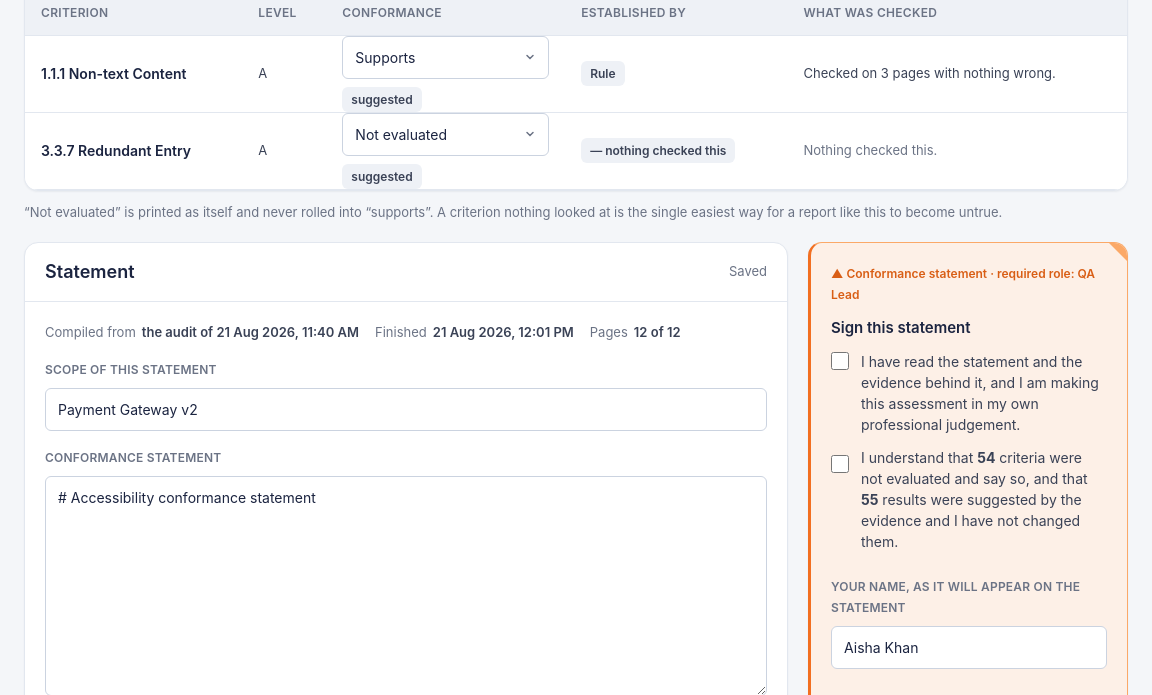
A save that fails speaks the product's language, not the browser's › a dropped connection says the app could not be reached, never “Failed to fetch”
(page scrolled)
Click the 1st checkbox: [840, 361] box [831, 352, 849, 370]
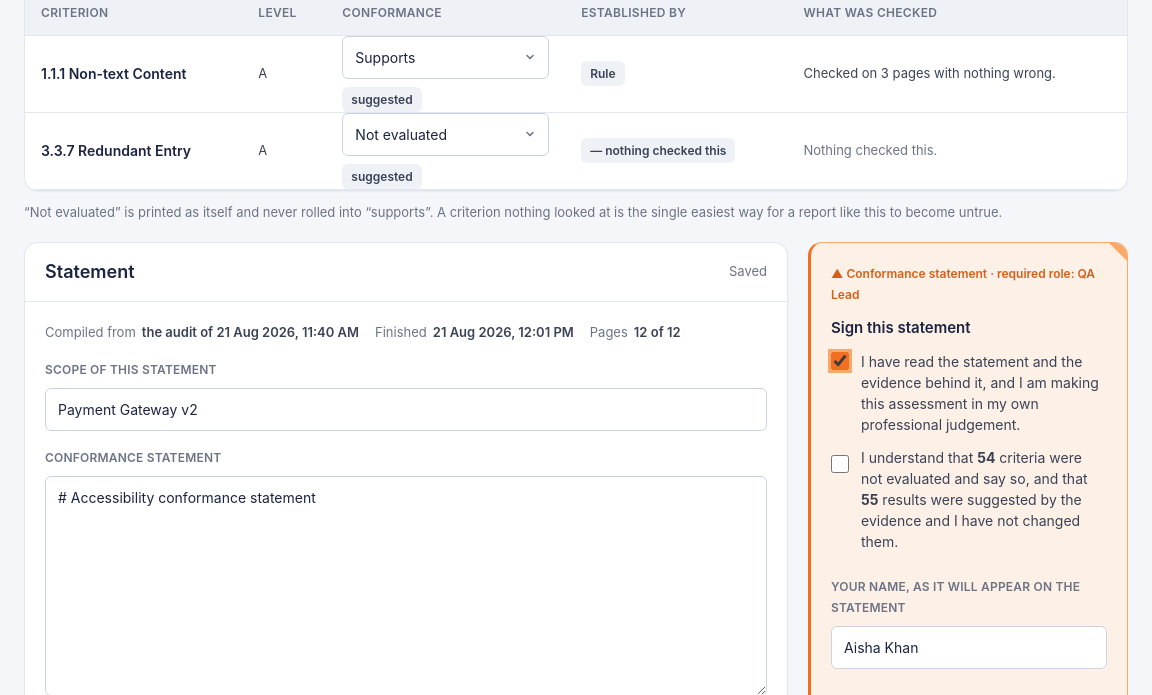
Click the 2nd checkbox: [840, 464] box [831, 455, 849, 473]
(page scrolled)
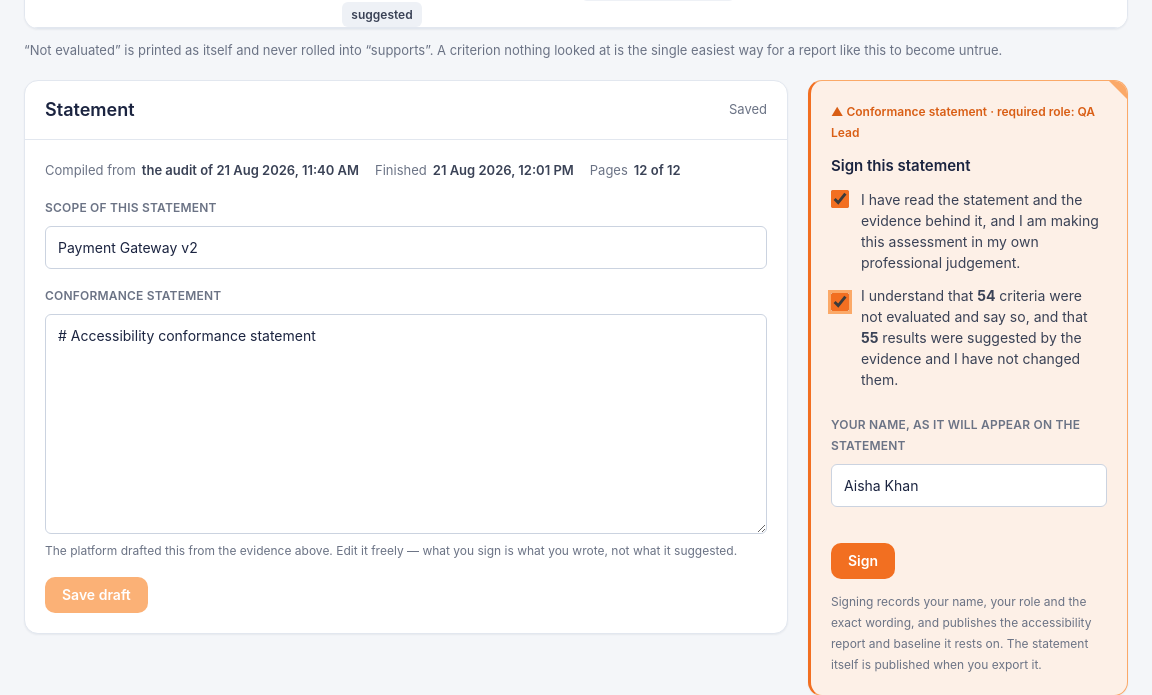
Click the button "Sign": [863, 561] box [831, 543, 895, 579]
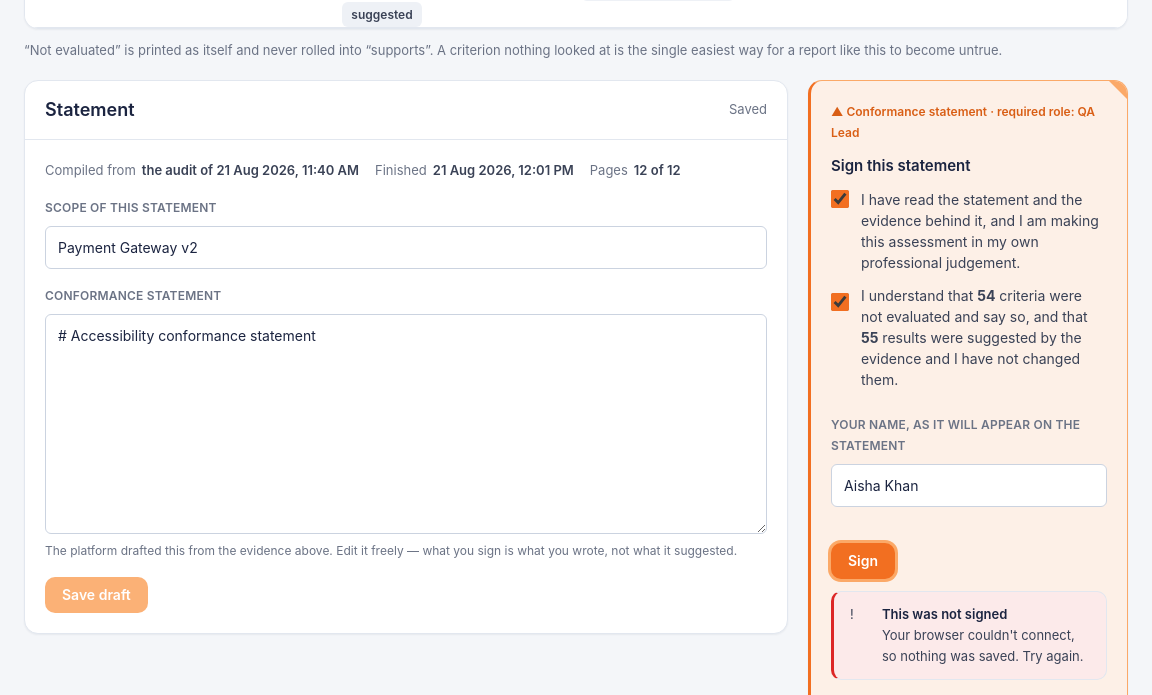
expect the text "Your browser couldn't connect, so nothing was saved. Try again." is shown: met, box [882, 627, 1084, 664]
expect the text "This was not signed" is shown: met, box [882, 606, 1007, 622]
